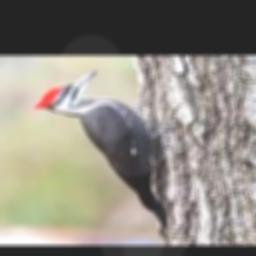Woodpecker: (32, 69, 173, 234)
